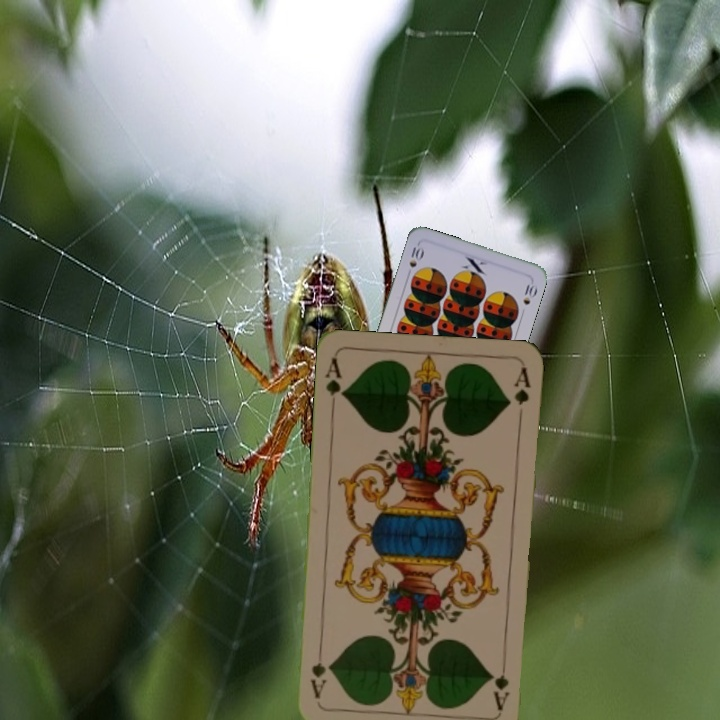GA: (322, 354, 348, 413), (489, 655, 512, 713)
S10: (403, 240, 426, 280)
